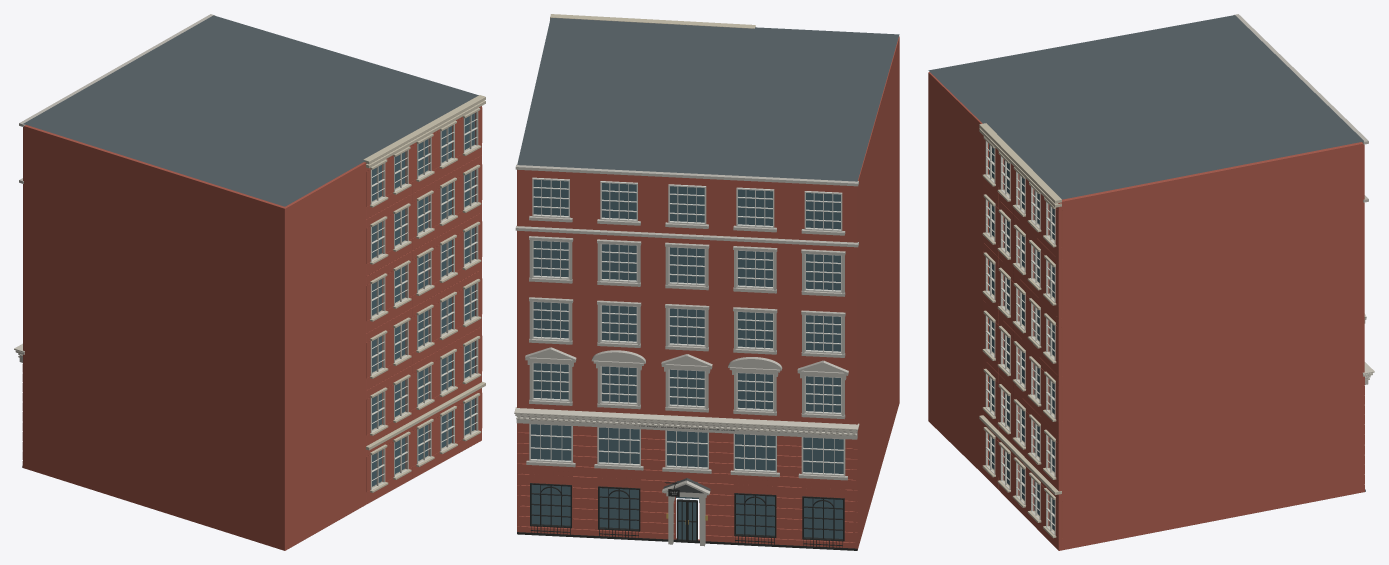
The model's file is sar-exterior-cf39f0dc668e.glb.
The picture shows the model from 3 angles, left to right: view 1: azimuth 30°, elevation 25°; view 2: azimuth 150°, elevation 25°; view 3: azimuth 270°, elevation 25°; orthographic projection. The views are drawn at different scales.
Visible parts, largest first — view 1: SAR.001; view 2: SAR.001; view 3: SAR.001.
Part boxes in pixels (x1,y1,x2,y2): SAR.001: (14, 14, 485, 550); SAR.001: (514, 14, 899, 550); SAR.001: (928, 14, 1374, 550).
Size of the model in its own units: 26.64 by 23.15 by 26.67.
